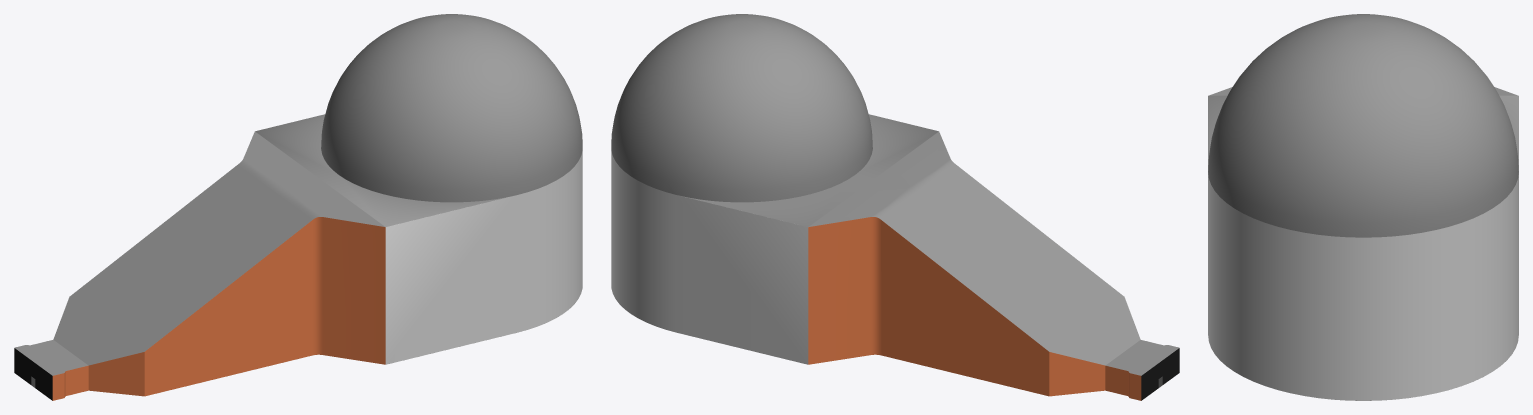
Rendered from MainRoom_01.FBX.
3 renders of one model, left to right at view 1: azimuth 30°, elevation 25°; view 2: azimuth 150°, elevation 25°; view 3: azimuth 270°, elevation 25°, orthographic. The views are drawn at different scales.
Visible parts, largest first — view 1: Object004, Object003, Object002; view 2: Object004, Object003, Object002; view 3: Object002, Object004.
Part boxes in pixels (<box>): Object004: <box>238,114,582,364</box>; Object003: <box>14,165,312,400</box>; Object002: <box>321,14,582,202</box>; Object004: <box>611,114,955,364</box>; Object003: <box>881,165,1179,400</box>; Object002: <box>611,14,872,202</box>; Object002: <box>1208,14,1518,237</box>; Object004: <box>1208,87,1518,400</box>.
Size of the model in its own units: 15313 by 6529 by 7105.
